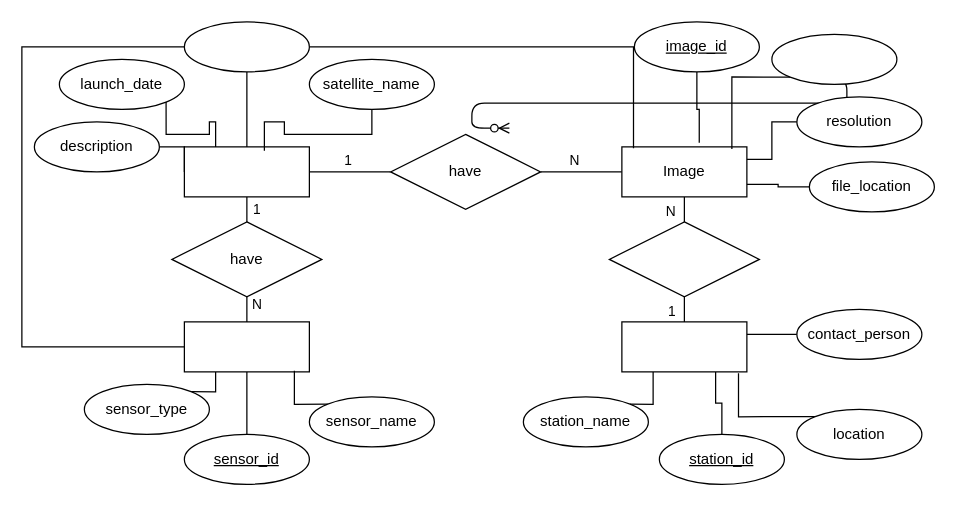
This 956x506 diagram has some shape labels left out. Here are the shapes that lost their labels. From the top down, the centre of each, then its label:
At point 246,46: "satellite_id".
At point 834,58: "capture_date".
At point 246,171: "Satellite".
At point 683,259: "recieved".
At point 246,346: "Sensor".
At point 684,346: "Ground Station".
